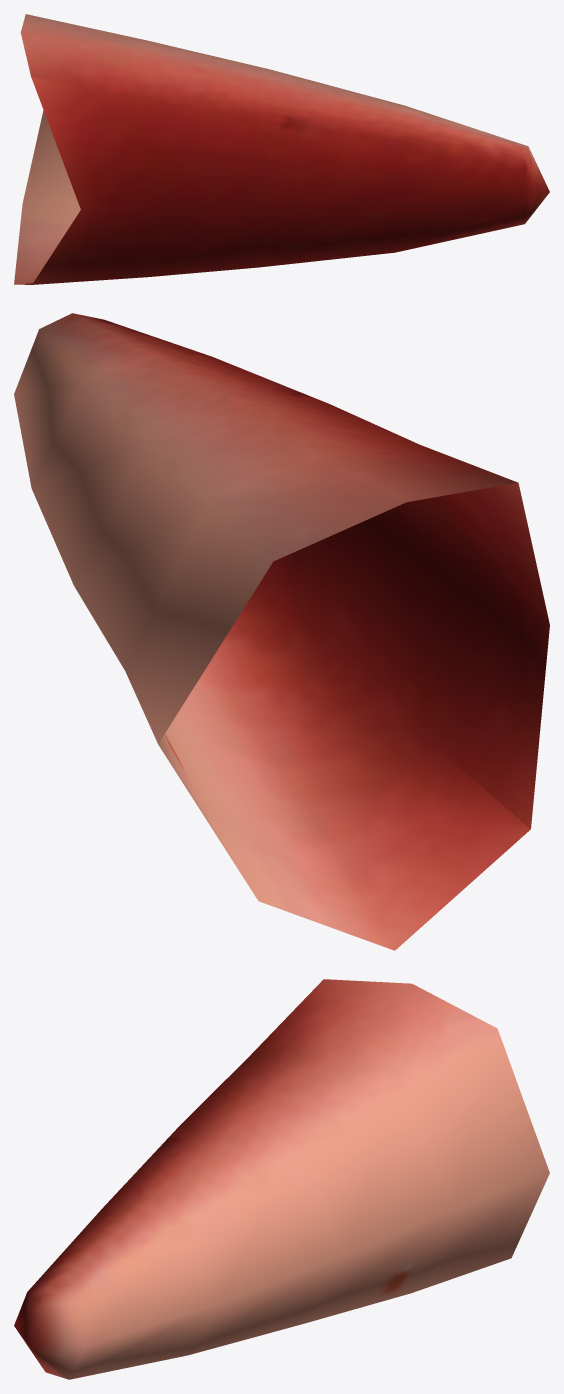
Rendered from braizqpat2.obj.
3 views of the same model, one above another, from view 1: azimuth 30°, elevation 25°; view 2: azimuth 150°, elevation 25°; view 3: azimuth 270°, elevation 25° (orthographic). The views are drawn at different scales.
Parts seen in each view (by area): view 1: brazo_derecho; view 2: brazo_derecho; view 3: brazo_derecho.
Boxes of the visible parts, x1=… form: brazo_derecho: x1=14, y1=14, x2=549, y2=284; brazo_derecho: x1=14, y1=313, x2=549, y2=950; brazo_derecho: x1=14, y1=979, x2=549, y2=1379.
Bounding box in the file's own units: 0.546 × 0.3357 × 0.5415.
